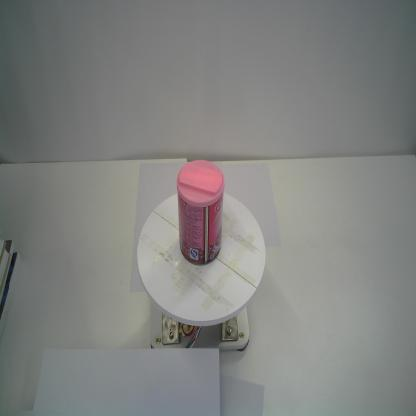Canned Food: (173, 160, 226, 271)
